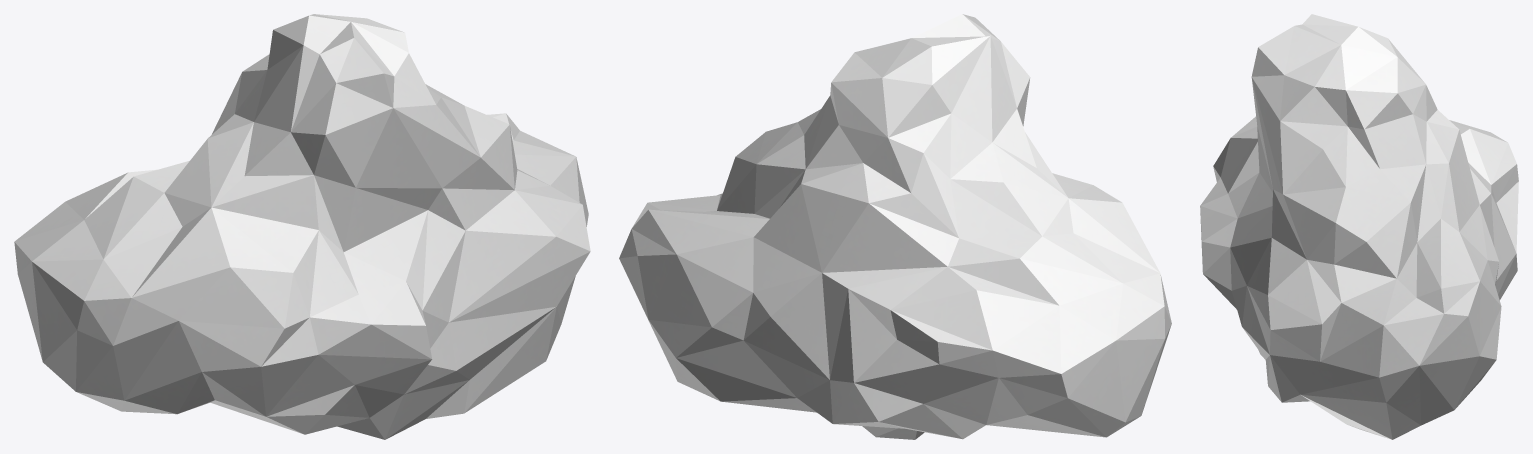
The model's file is Cloud_1.fbx.
3 views of the same model, side by side, from view 1: azimuth 30°, elevation 25°; view 2: azimuth 150°, elevation 25°; view 3: azimuth 270°, elevation 25° (orthographic). The views are drawn at different scales.
Parts seen in each view (by area): view 1: Group58148; view 2: Group58148; view 3: Group58148.
Part boxes in pixels (x1,y1,x2,y2): Group58148: [14, 14, 590, 439]; Group58148: [619, 14, 1171, 439]; Group58148: [1200, 14, 1518, 439].
Bounding box in the file's own units: 833 × 600 × 521.
